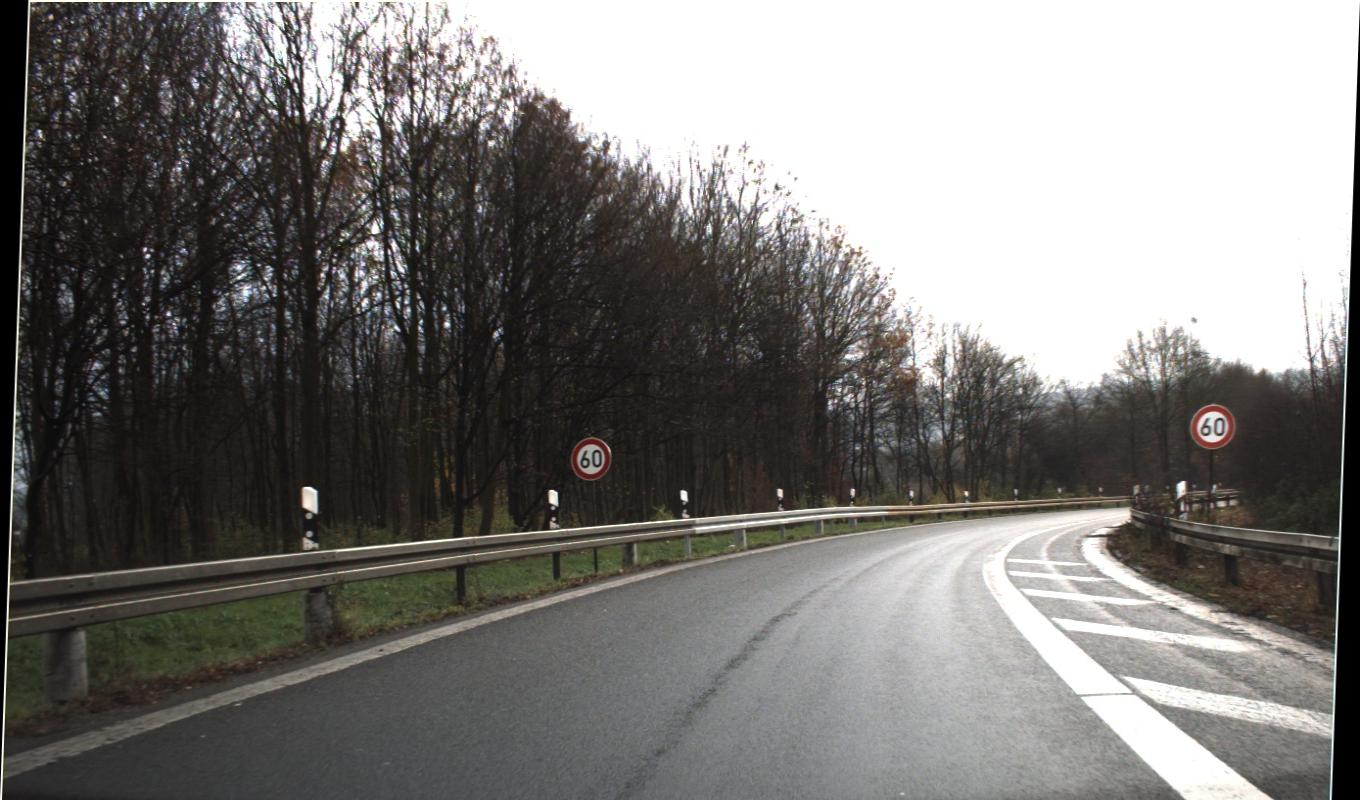speed limit 60: (569, 403, 1237, 481)
